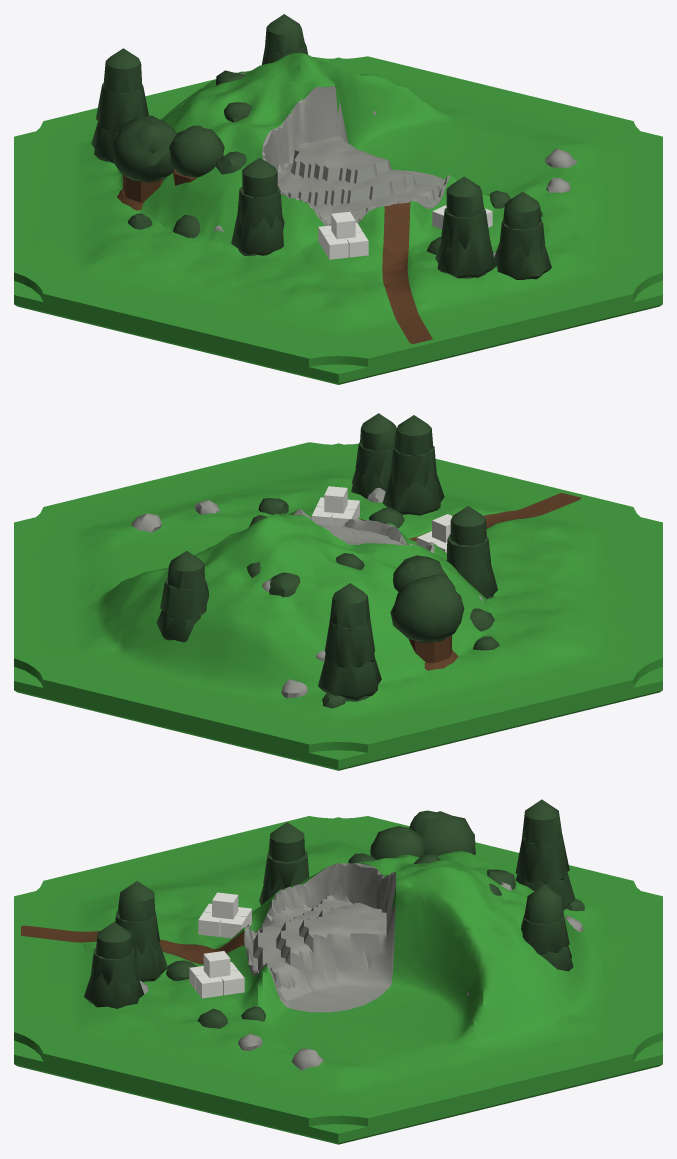
File: huegel_1.glb
3 renders of one model, top to bottom at view 1: azimuth 30°, elevation 25°; view 2: azimuth 150°, elevation 25°; view 3: azimuth 270°, elevation 25°, orthographic.
Visible parts, largest first — view 1: huegel_1; view 2: huegel_1; view 3: huegel_1.
Part boxes in pixels (x1=…): huegel_1: x1=14, y1=14, x2=662, y2=384; huegel_1: x1=14, y1=413, x2=662, y2=770; huegel_1: x1=14, y1=799, x2=662, y2=1144.
Bounding box in the file's own units: 65.24 × 12.81 × 56.5.
